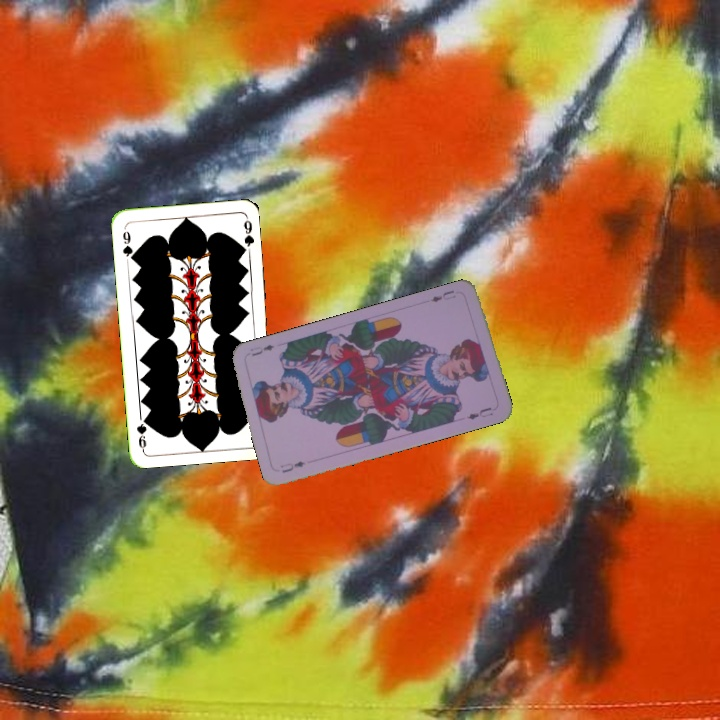EU: (426, 286, 458, 305), (276, 457, 307, 476)
G9: (119, 223, 137, 263)
